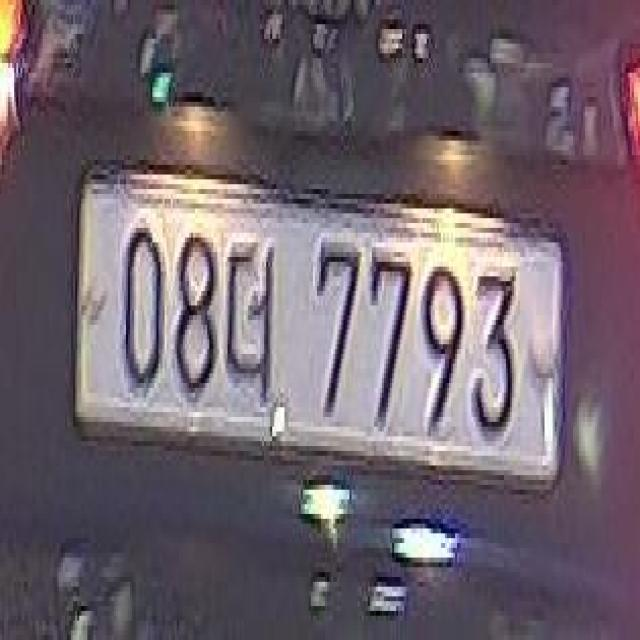illegal_plate: (79, 159, 562, 500)
